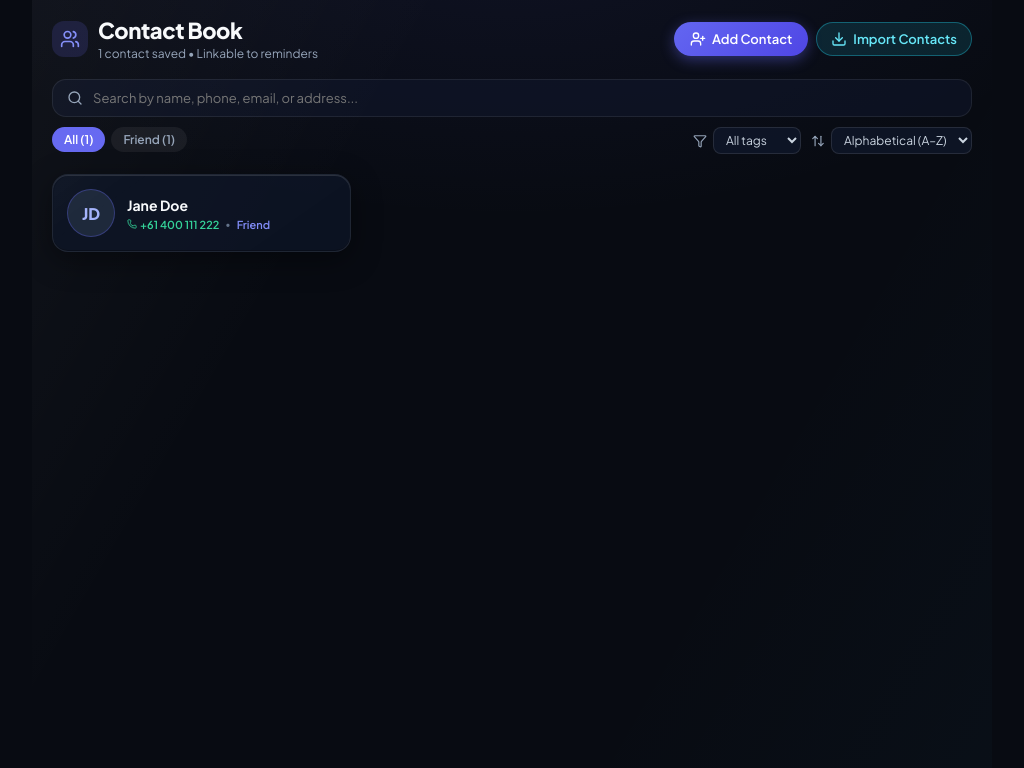
Test: Contact Book UI: create, view, edit, delete › opens the detail view and shows actionable phone, email and address links
Click the heading "Jane Doe": (158, 204) [127,196,188,214]
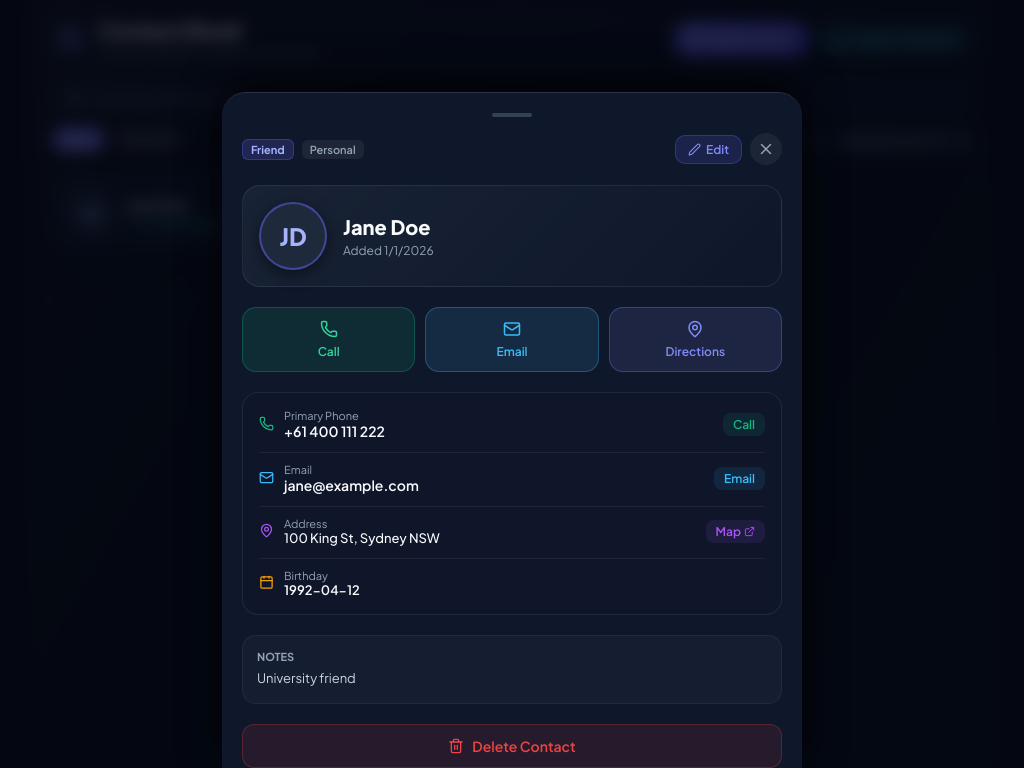
Expected: the text "Edit" is shown, [706,142,729,157]
Expected: the text "University friend" is shown, [257,670,356,686]
